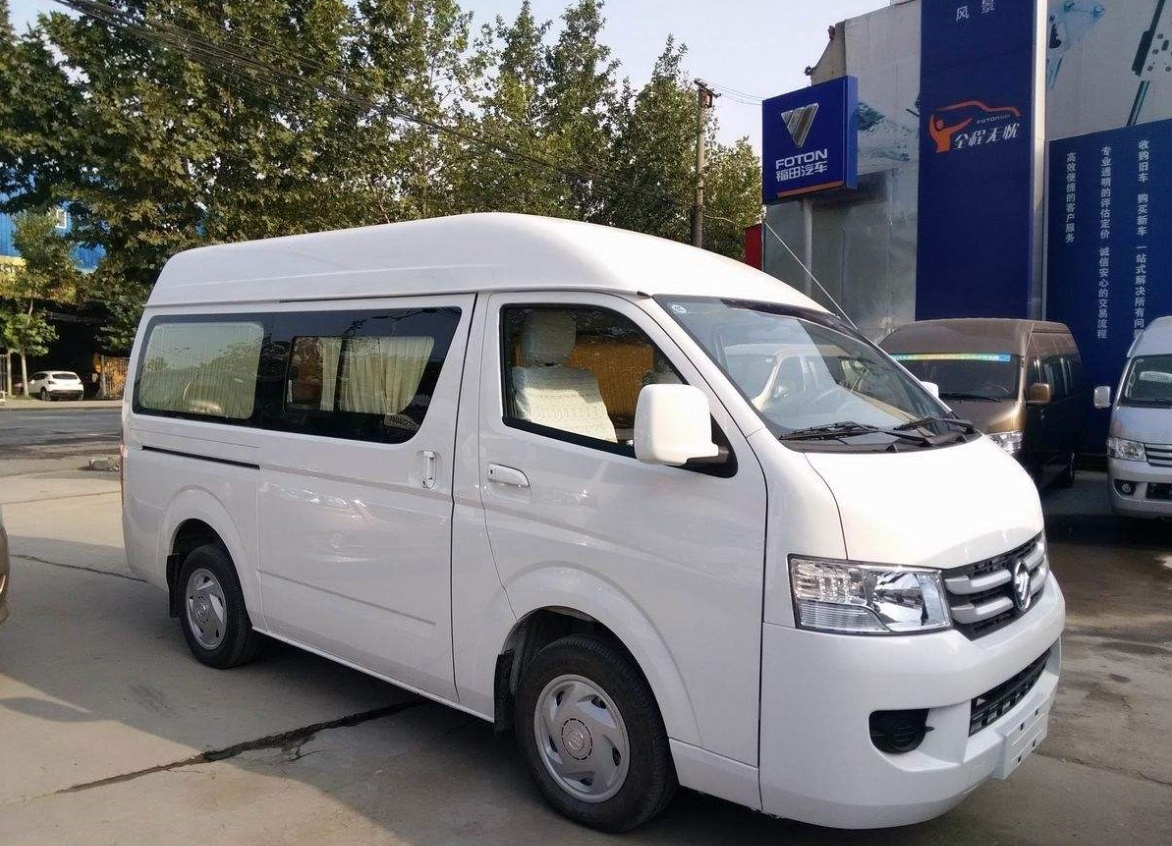minibus: (107, 170, 1091, 841)
